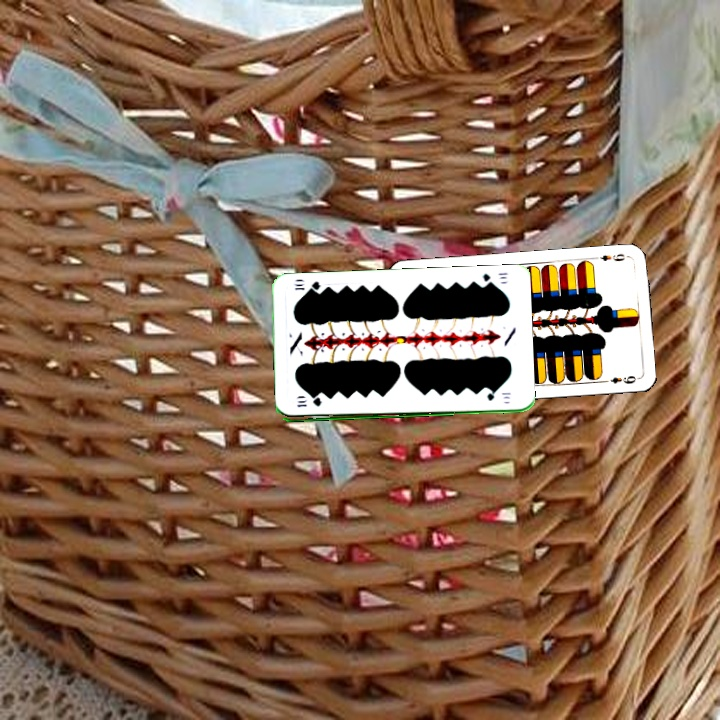E9: (590, 249, 631, 264)
G10: (479, 268, 511, 288), (293, 396, 324, 409)
